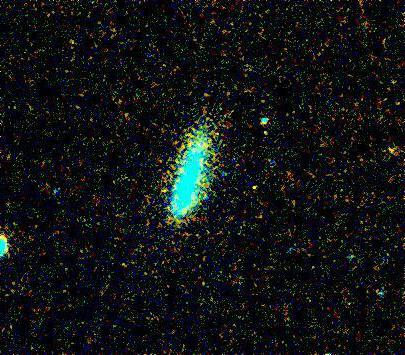star: (241, 172, 271, 202)
